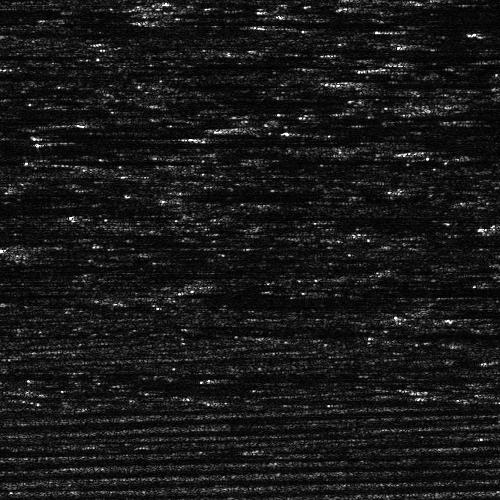rock: (185, 121, 320, 134), (124, 191, 217, 200), (227, 21, 320, 28), (319, 79, 392, 84)
shadow: (253, 121, 500, 134), (171, 191, 251, 200), (274, 21, 358, 28), (356, 79, 442, 84)
